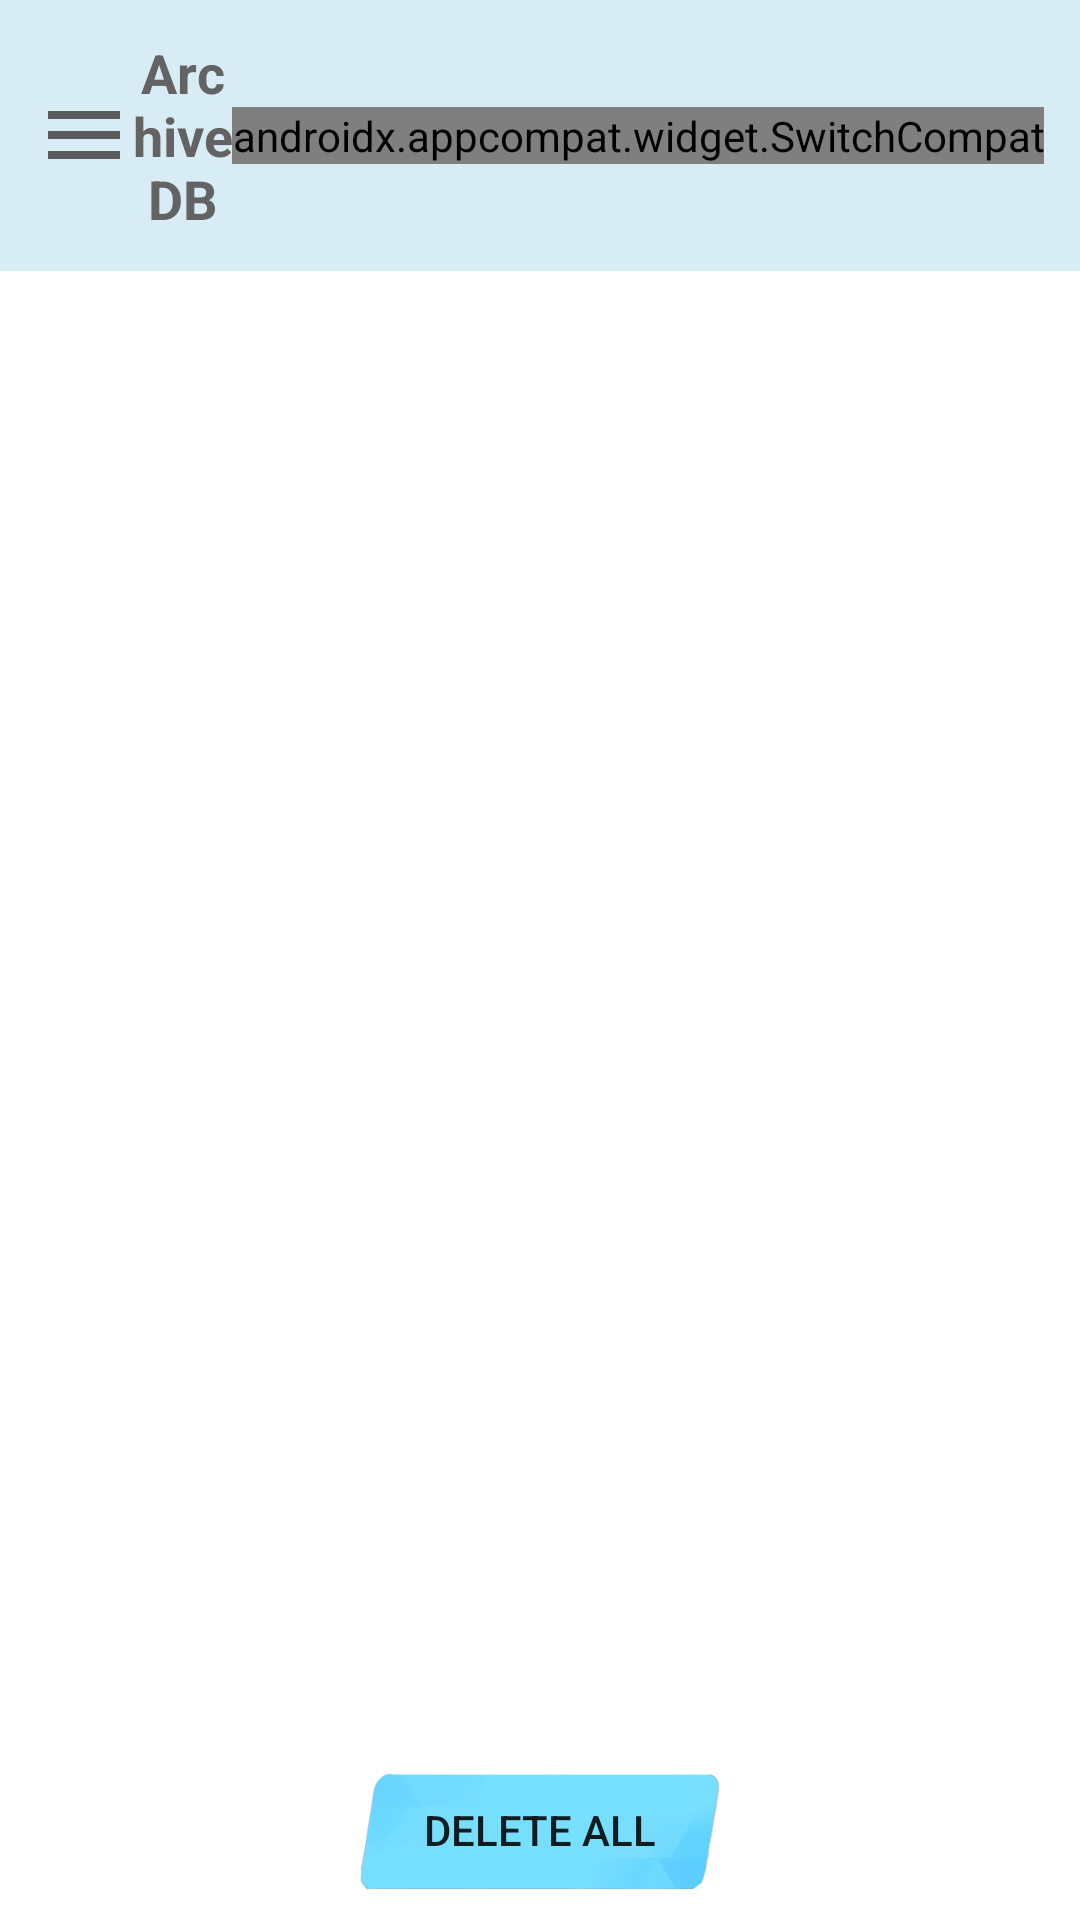

Where icons sit on this 1080x1920 app screen, as [left=x1, top=y1, right=x2, bottom=y2]:
menu: [left=48, top=111, right=120, bottom=159]
